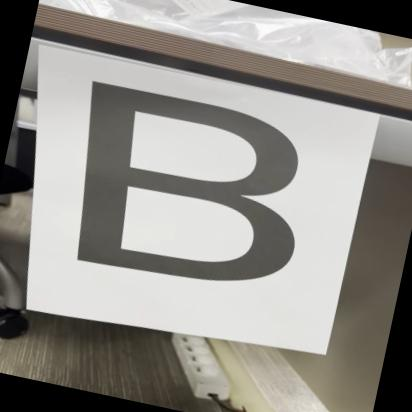seat: (25, 66, 341, 319)
